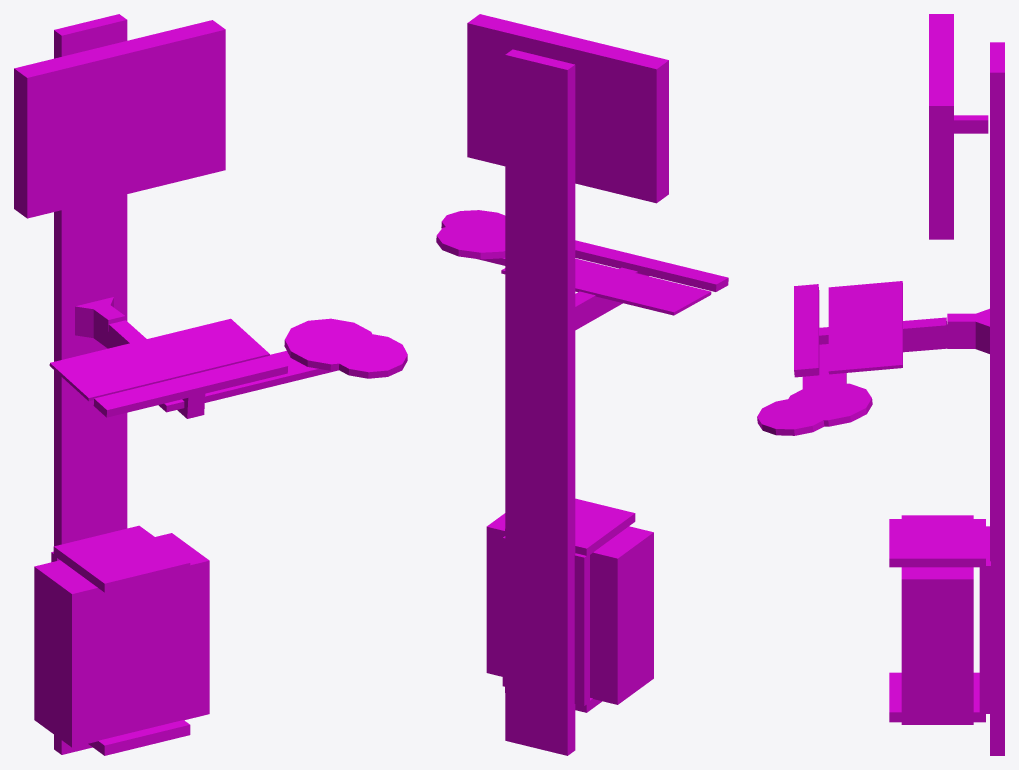
File: SM_DigitalKioskCollider.fbx
3 renders of one model, left to right at view 1: azimuth 30°, elevation 25°; view 2: azimuth 150°, elevation 25°; view 3: azimuth 270°, elevation 25°, orthographic. The views are drawn at different scales.
Parts seen in each view (by area): view 1: DigitalKioskCollision; view 2: DigitalKioskCollision; view 3: DigitalKioskCollision.
Part boxes in pixels (<box>): DigitalKioskCollision: <box>14,14,407,755</box>; DigitalKioskCollision: <box>436,14,728,755</box>; DigitalKioskCollision: <box>757,14,1004,755</box>.
Bounding box in the file's own units: 83.68 × 189 × 62.14.
